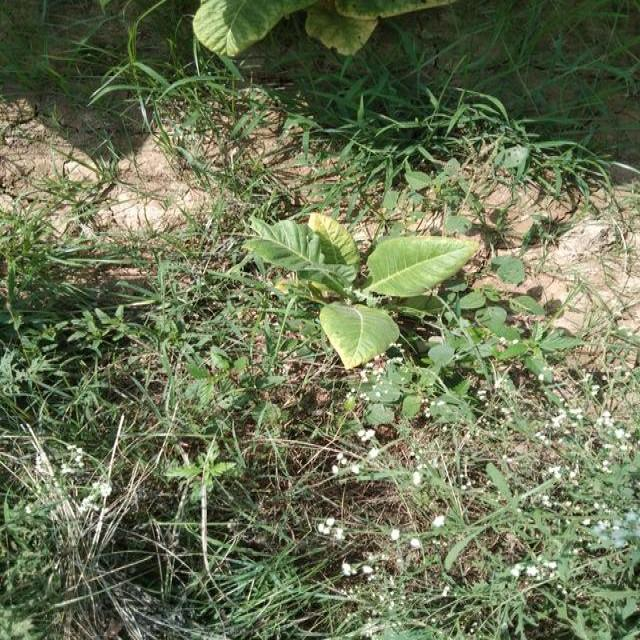crop: (249, 210, 468, 360), (200, 0, 448, 43)
